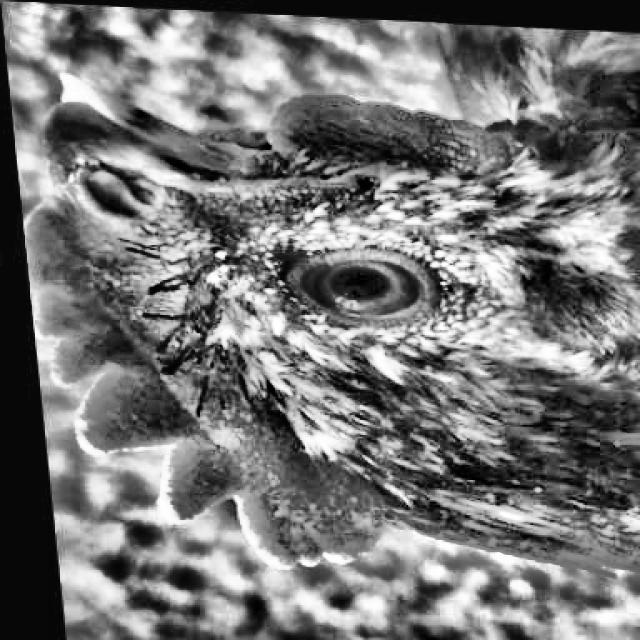Healthy: (262, 240, 472, 340)
